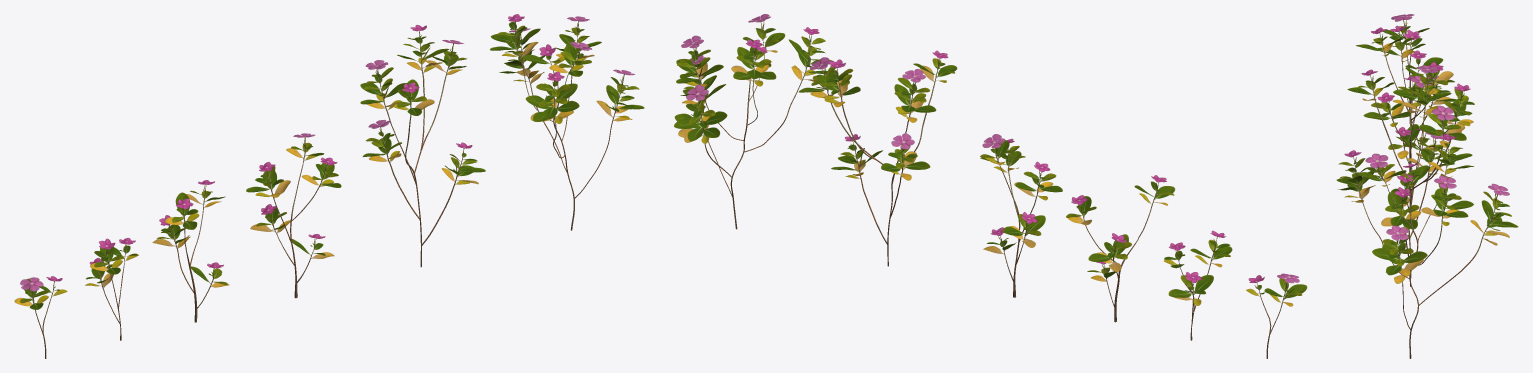
The model's file is moon-garden.glb.
The picture shows the model from 3 angles, left to right: view 1: azimuth 30°, elevation 25°; view 2: azimuth 150°, elevation 25°; view 3: azimuth 270°, elevation 25°; orthographic projection. The views are drawn at different scales.
Visible parts, largest first — view 1: periwinkle_plant_01_LOD0, periwinkle_plant_02_LOD0, periwinkle_plant_03_LOD0, periwinkle_plant_04_LOD0, periwinkle_plant_05_LOD0, periwinkle_plant_06_LOD0; view 2: periwinkle_plant_01_LOD0, periwinkle_plant_02_LOD0, periwinkle_plant_03_LOD0, periwinkle_plant_04_LOD0, periwinkle_plant_05_LOD0, periwinkle_plant_06_LOD0; view 3: periwinkle_plant_01_LOD0, periwinkle_plant_02_LOD0, periwinkle_plant_03_LOD0, periwinkle_plant_04_LOD0, periwinkle_plant_05_LOD0, periwinkle_plant_06_LOD0.
Boxes of the visible parts, box(x1,y1,x2,y2) form: periwinkle_plant_01_LOD0: box(490, 14, 644, 230); periwinkle_plant_02_LOD0: box(360, 25, 485, 267); periwinkle_plant_03_LOD0: box(246, 133, 341, 298); periwinkle_plant_04_LOD0: box(152, 180, 229, 322); periwinkle_plant_05_LOD0: box(85, 238, 138, 340); periwinkle_plant_06_LOD0: box(14, 276, 67, 358); periwinkle_plant_01_LOD0: box(674, 14, 833, 229); periwinkle_plant_02_LOD0: box(799, 50, 957, 266); periwinkle_plant_03_LOD0: box(980, 134, 1062, 297); periwinkle_plant_04_LOD0: box(1066, 175, 1175, 322); periwinkle_plant_05_LOD0: box(1164, 230, 1232, 340); periwinkle_plant_06_LOD0: box(1246, 273, 1307, 358); periwinkle_plant_01_LOD0: box(1336, 133, 1518, 358); periwinkle_plant_02_LOD0: box(1347, 65, 1474, 286); periwinkle_plant_03_LOD0: box(1363, 75, 1441, 207); periwinkle_plant_04_LOD0: box(1356, 27, 1455, 171); periwinkle_plant_05_LOD0: box(1377, 25, 1454, 123); periwinkle_plant_06_LOD0: box(1383, 14, 1429, 103).
Size of the model in its own units: 1.24 by 0.4107 by 0.3207.
Materials: 1 (1 with a texture image).
